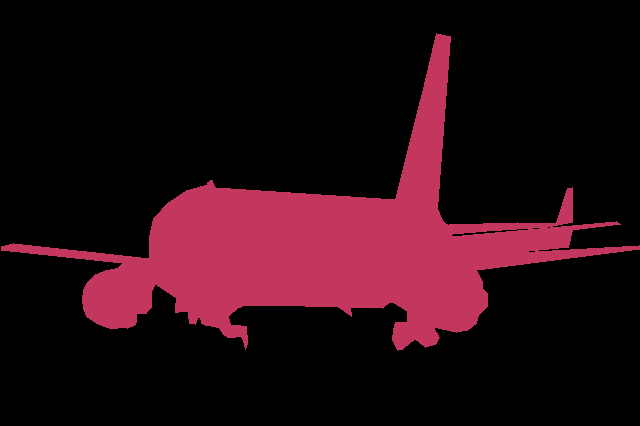Airplane: (1, 33, 640, 351), (448, 187, 572, 256)
